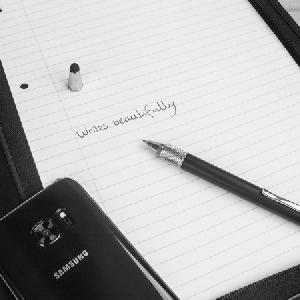pen: (137, 138, 300, 225)
